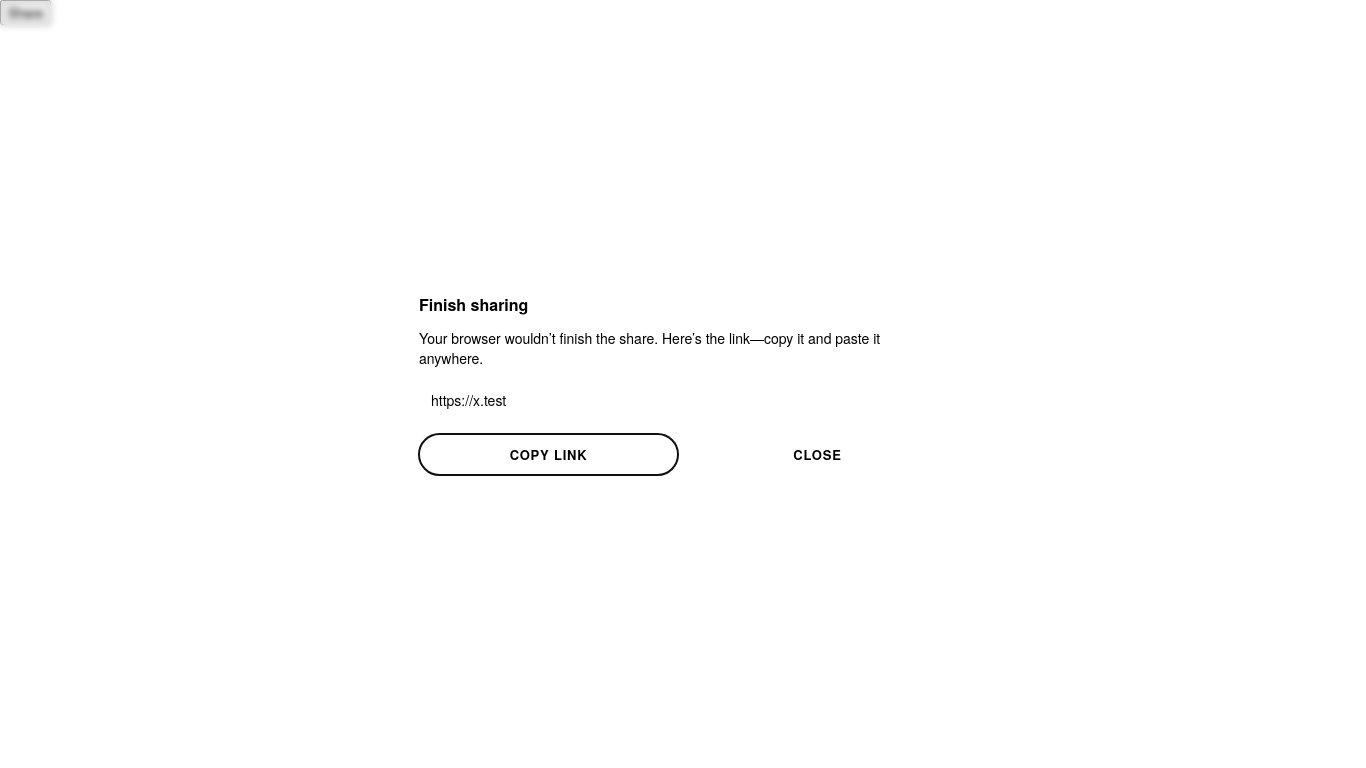
it: shareCardBlob — native share sheet + fallback chain › says so when the fallback sheet cannot copy the link either, and leaves the button pressable
What coordinates should you click on to do the following:
click the button "Copy link"
I would click on:
 (548, 454)
Its box is x1=419 y1=434 x2=678 y2=475.
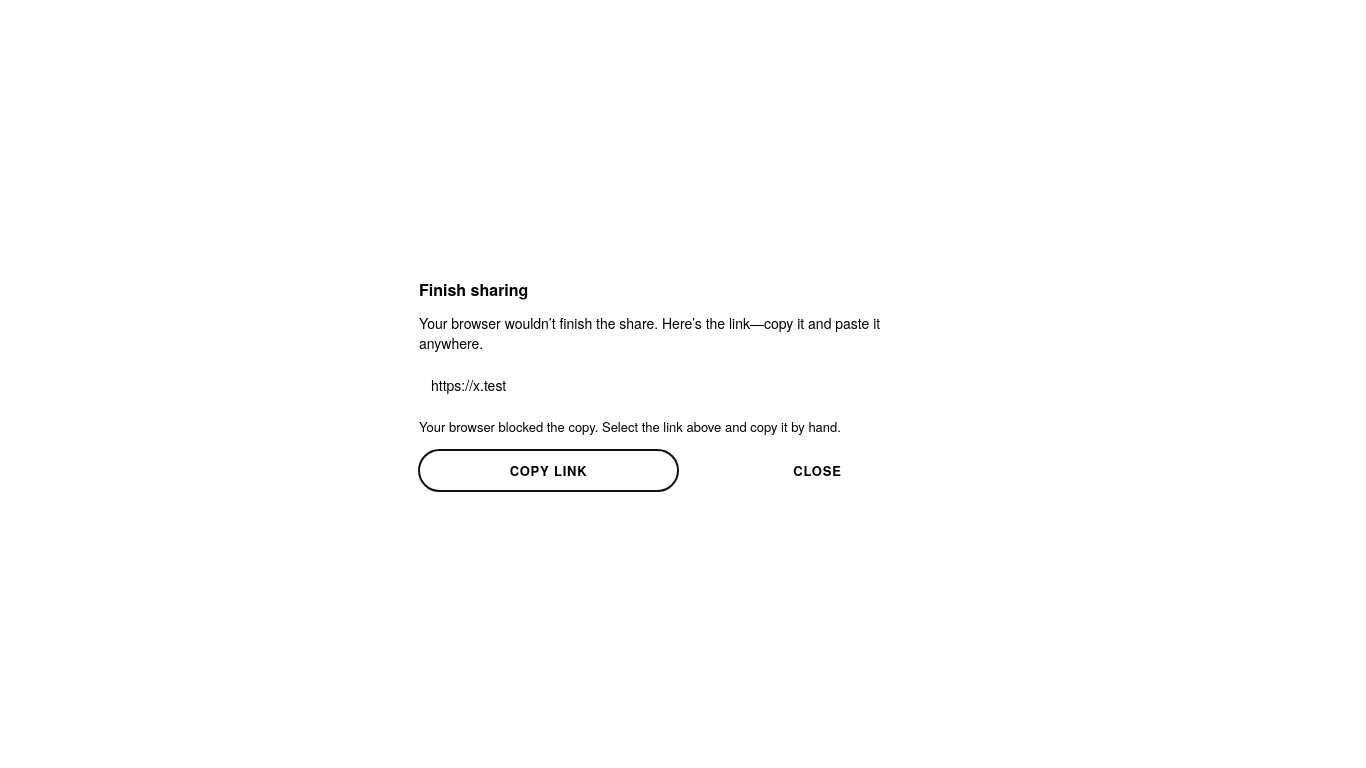
Expected: the button "Copy link" is shown, x1=419 y1=450 x2=678 y2=490
Expected: the message with class "share-fallback-status" shows "Your browser blocked the copy.", x1=419 y1=416 x2=841 y2=436
Expected: the message with class "share-fallback-status" shows "Select the link above", x1=419 y1=416 x2=841 y2=436
